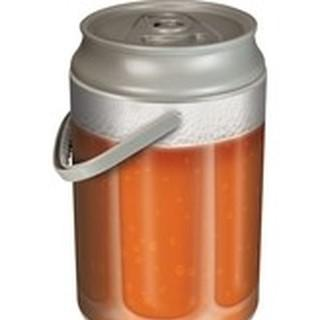beer: (68, 2, 261, 320)
